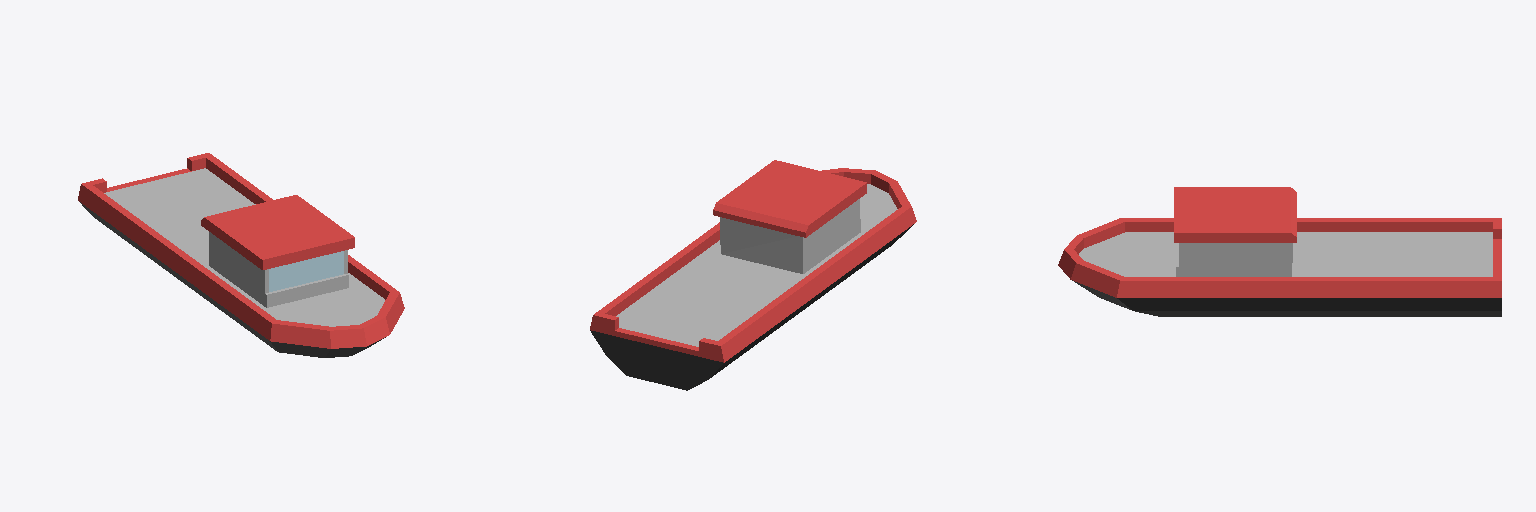
File: boat2.obj
3 views of the same model, side by side, from view 1: azimuth 30°, elevation 25°; view 2: azimuth 150°, elevation 25°; view 3: azimuth 270°, elevation 25° (orthographic).
Parts seen in each view (by area): view 1: boat; view 2: boat; view 3: boat.
Part boxes in pixels (left/top/right/bottom): boat: left=78, top=153, right=404, bottom=357; boat: left=590, top=160, right=916, bottom=390; boat: left=1058, top=187, right=1501, bottom=316.
Bounding box in the file's own units: 3.69 × 2.41 × 10.55.